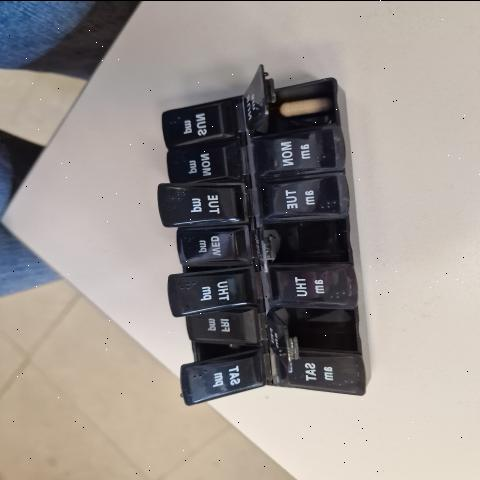Open: (250, 63, 339, 135), (270, 308, 360, 371), (246, 220, 356, 268), (181, 342, 261, 365), (176, 265, 253, 275), (167, 220, 243, 228)
Pill: (274, 94, 330, 120)
